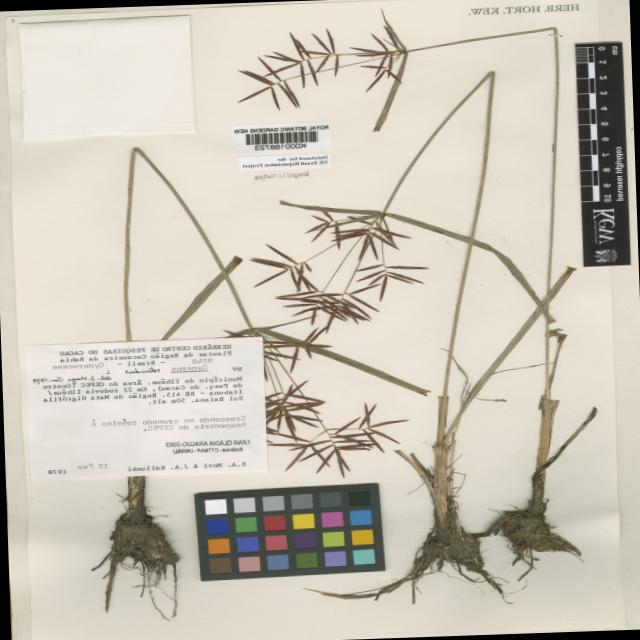cyperus: (252, 206, 426, 329), (232, 1, 414, 114), (255, 376, 398, 476)
